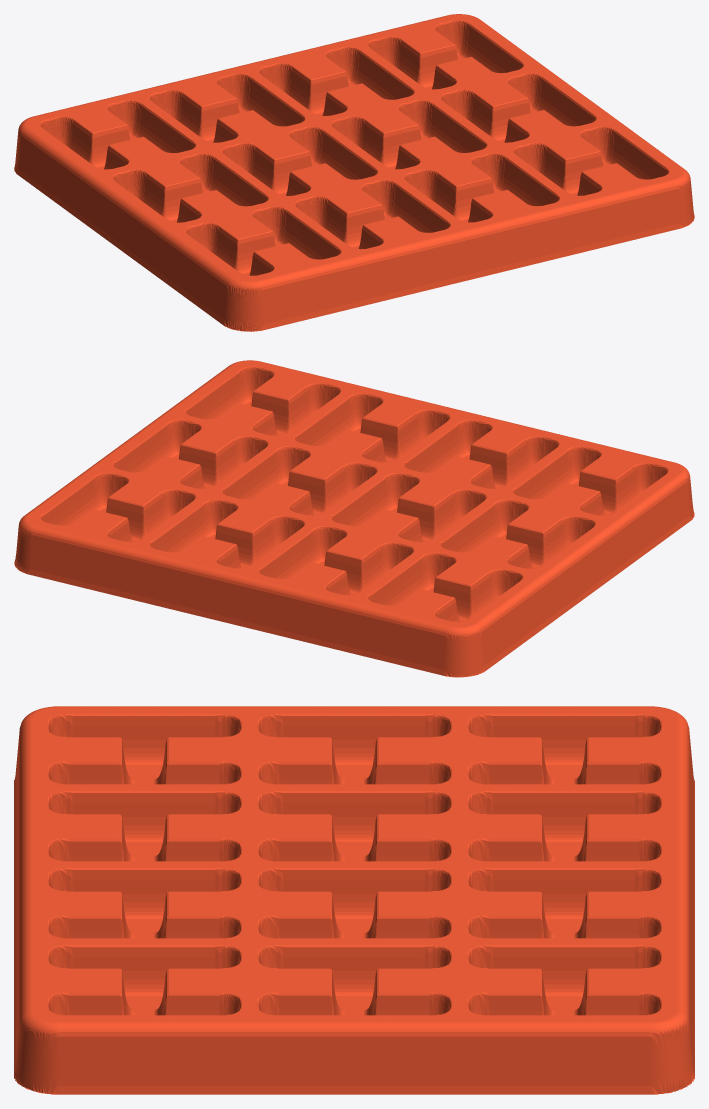
File: mold.glb
3 views of the same model, one above another, from view 1: azimuth 30°, elevation 25°; view 2: azimuth 150°, elevation 25°; view 3: azimuth 270°, elevation 25° (orthographic). The views are drawn at different scales.
Visible parts, largest first — view 1: geometry_0; view 2: geometry_0; view 3: geometry_0.
Boxes of the visible parts, bbox=[...] form: geometry_0: bbox=[14, 14, 694, 331]; geometry_0: bbox=[14, 360, 694, 677]; geometry_0: bbox=[14, 706, 694, 1094].
Size of the model in its own units: 0.1574 by 0.0145 by 0.1374.
